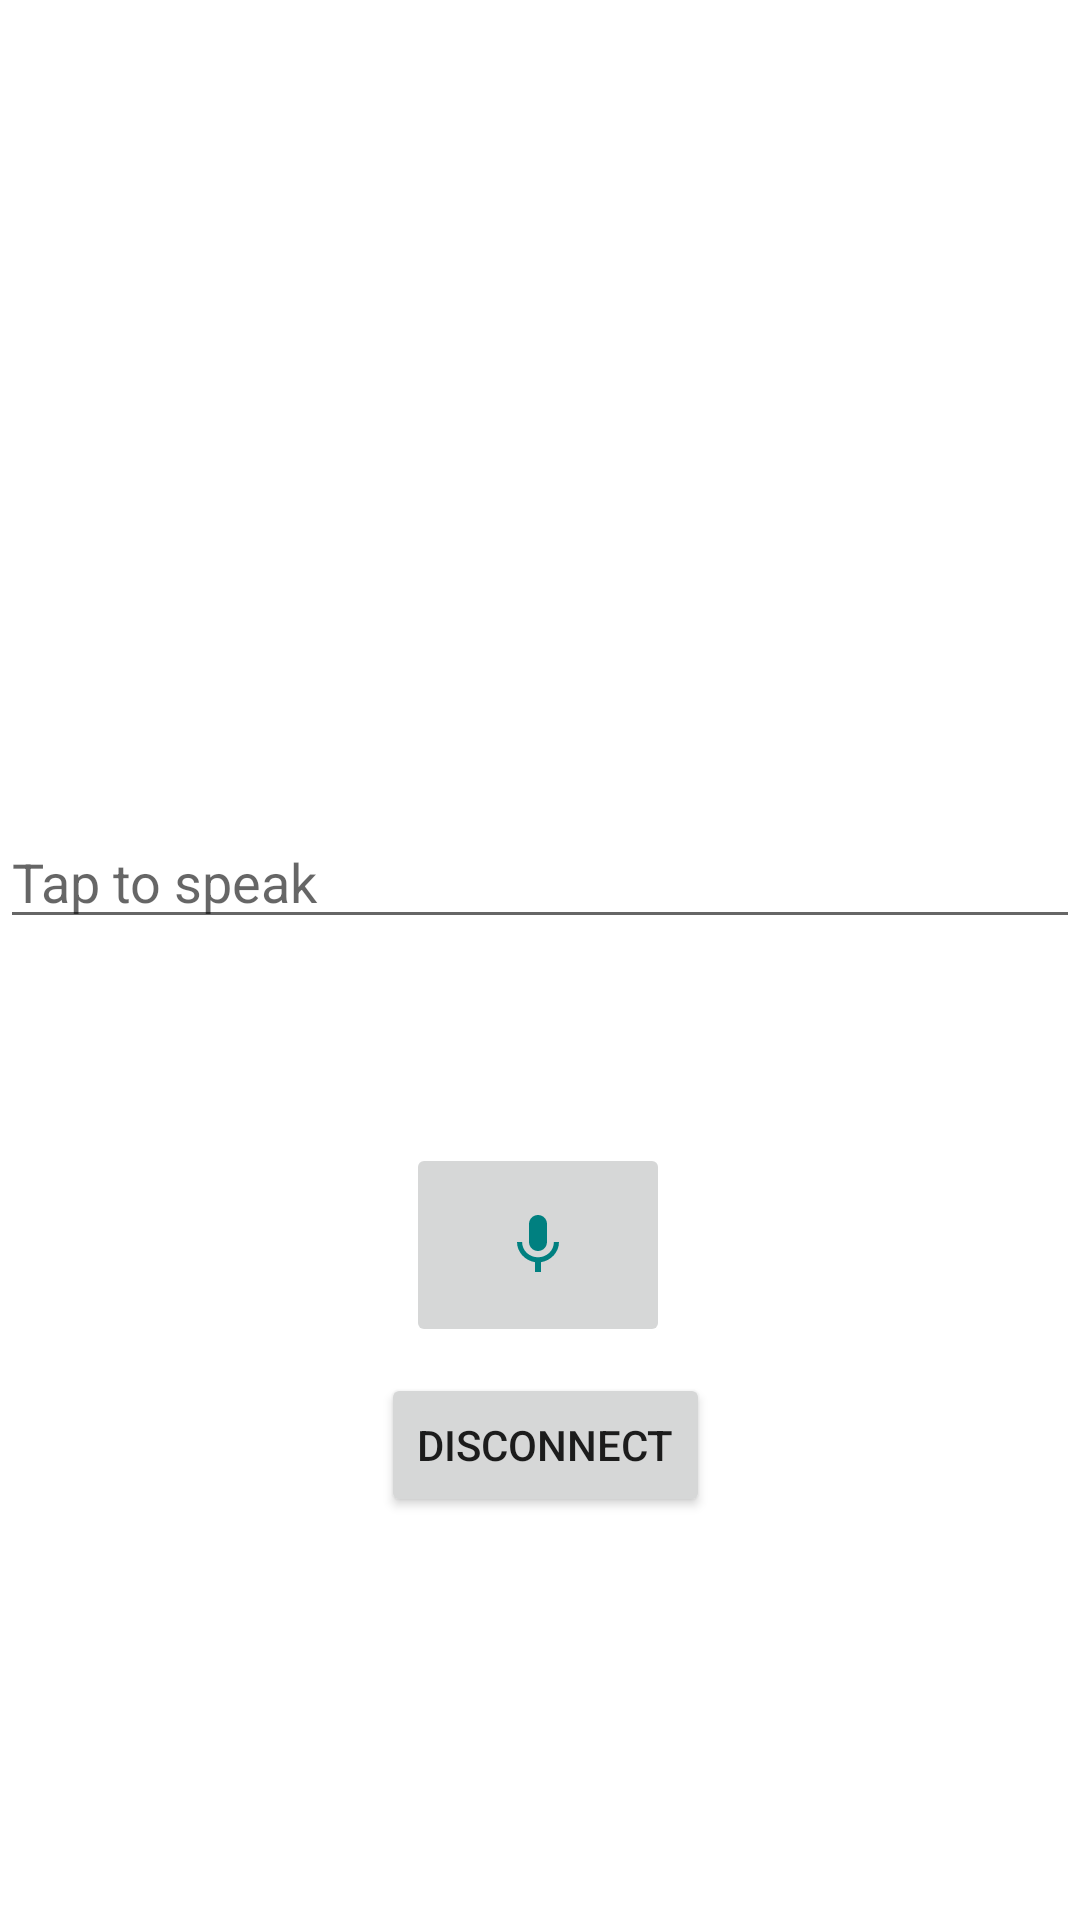

Screen size 1080x1920. Icon name, then its center in pixels as point (x, y):
mic: point (538, 1245)
